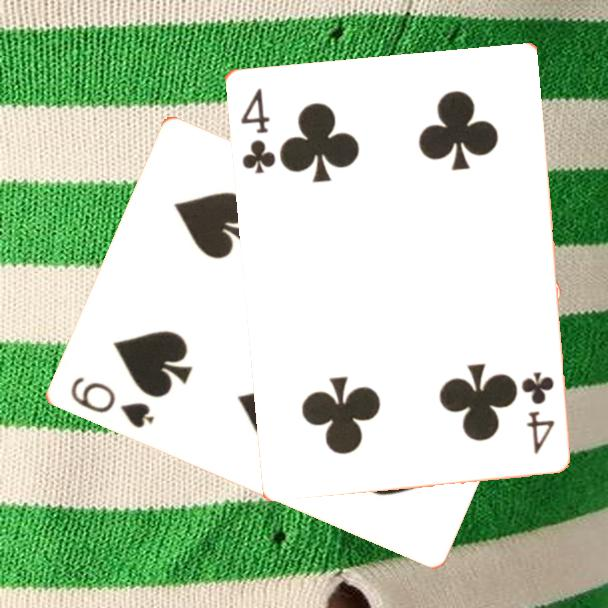c04: (236, 84, 278, 177), (519, 368, 557, 457)
s06: (66, 373, 157, 432)
